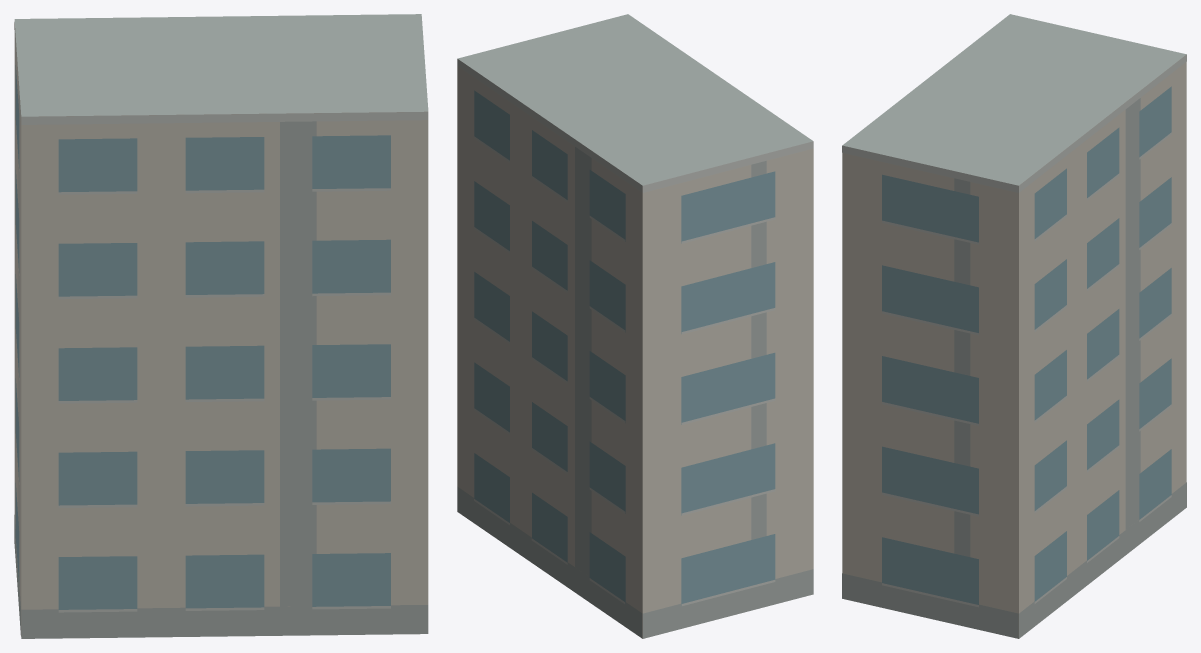
The model's file is residential-65cc1d94-a075-41f6-90e8-42af849ae647.glb.
The picture shows the model from 3 angles, left to right: view 1: azimuth 30°, elevation 25°; view 2: azimuth 150°, elevation 25°; view 3: azimuth 270°, elevation 25°; orthographic projection. The views are drawn at different scales.
Parts seen in each view (by area): view 1: residential-65cc1d94-a075-41f6-90e8-42af849ae647.tmp; view 2: residential-65cc1d94-a075-41f6-90e8-42af849ae647.tmp; view 3: residential-65cc1d94-a075-41f6-90e8-42af849ae647.tmp.
Boxes of the visible parts, x1=… form: residential-65cc1d94-a075-41f6-90e8-42af849ae647.tmp: x1=14, y1=14, x2=428, y2=638; residential-65cc1d94-a075-41f6-90e8-42af849ae647.tmp: x1=457, y1=14, x2=813, y2=638; residential-65cc1d94-a075-41f6-90e8-42af849ae647.tmp: x1=842, y1=14, x2=1186, y2=638.
Size of the model in its own units: 12.4 by 15.25 by 10.52.
